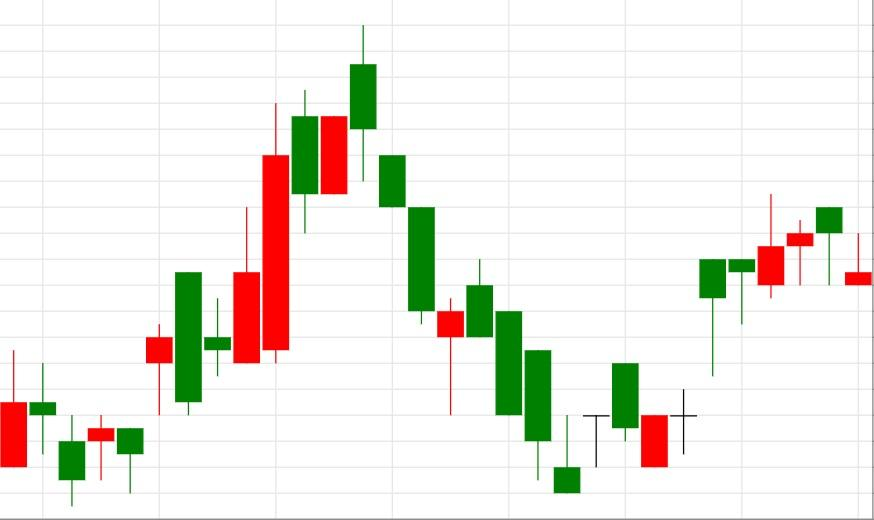hanging_man_fall: (640, 194, 843, 467)
inverse_hammer_rise: (466, 260, 581, 494)
three_black_crows_fall: (116, 25, 436, 494)
